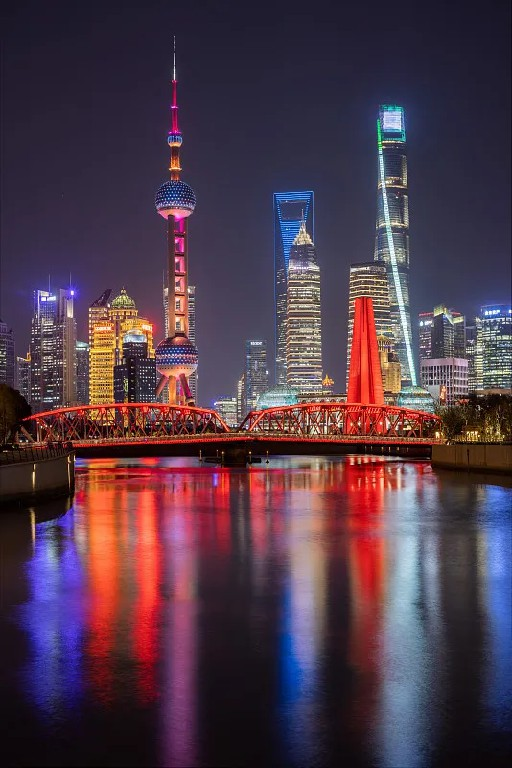Oriental: (155, 34, 199, 406)
